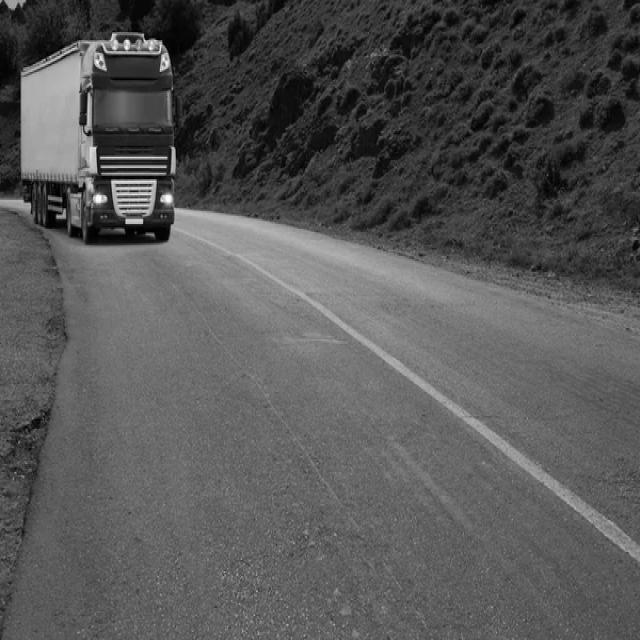Truck: (20, 32, 176, 242)
